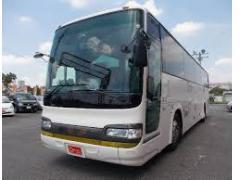bus: (41, 1, 212, 169)
